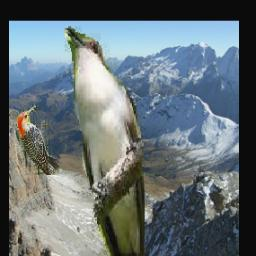Cuckoo: (66, 27, 146, 256)
Woodpecker: (18, 105, 60, 176)
